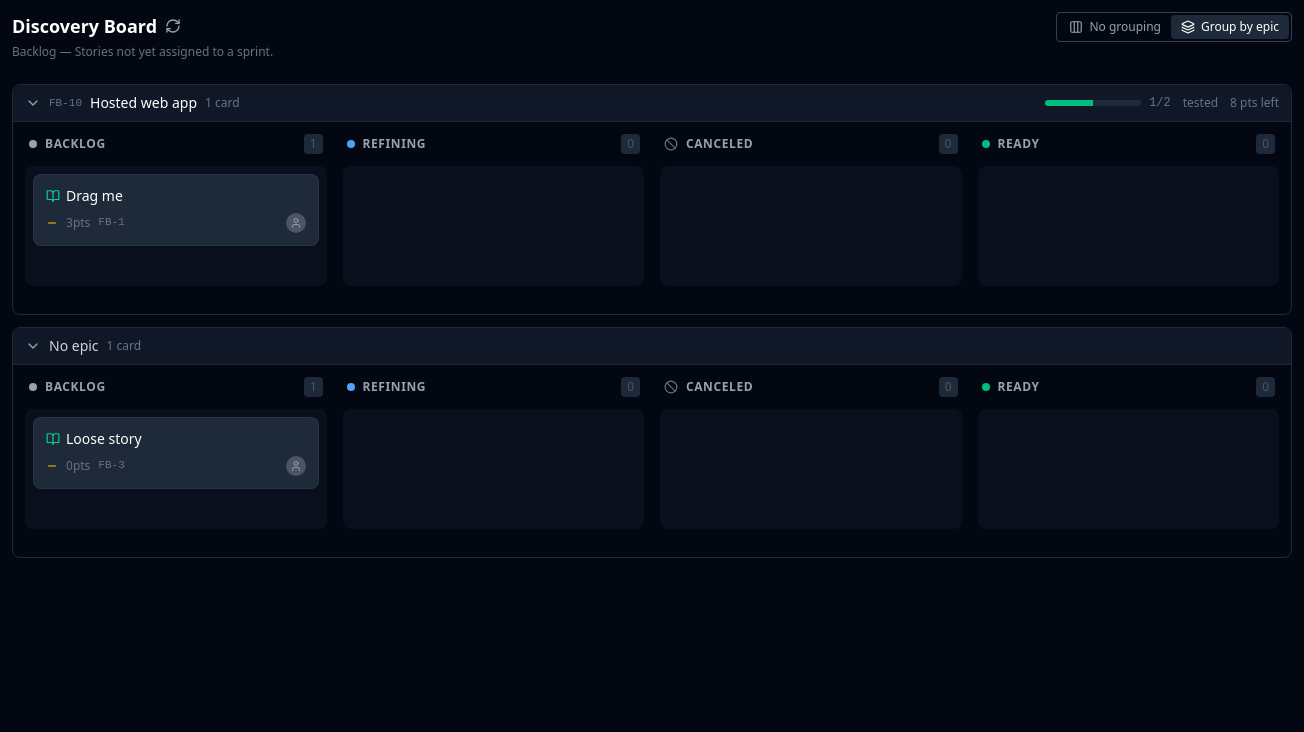
Factory Discovery board grouping › hides a row's cards when it is collapsed
Expected: the text "Drag me" is shown, [66,187,123,204]
Step 1. Click the button named "Collapse FB-10" → (33, 103), box [25,95,41,111]
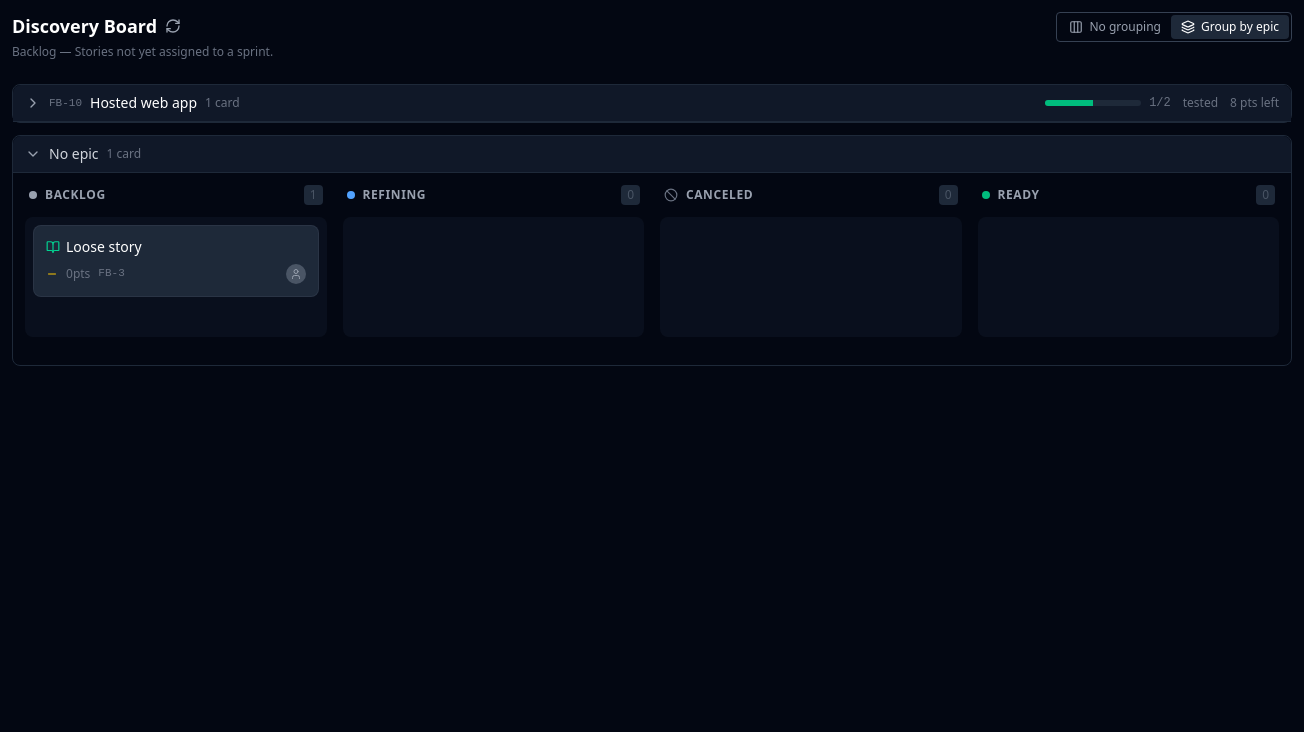
Expected: the text "Loose story" is shown, [66,238,142,256]
Now the button "Drag me" is gone
Step 2. Click the button named "Expand FB-10" → (33, 103), box [25,95,41,111]
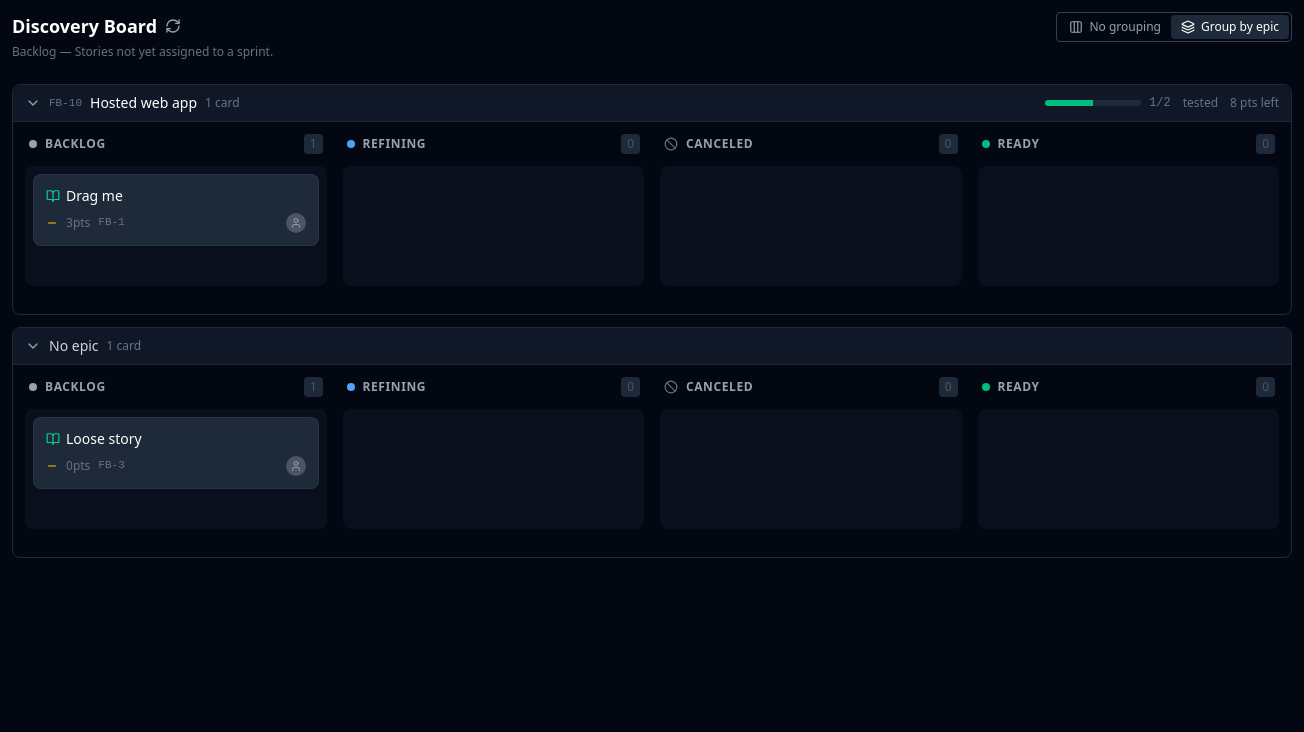
Now the text "Drag me" is shown, box [66,187,123,204]
